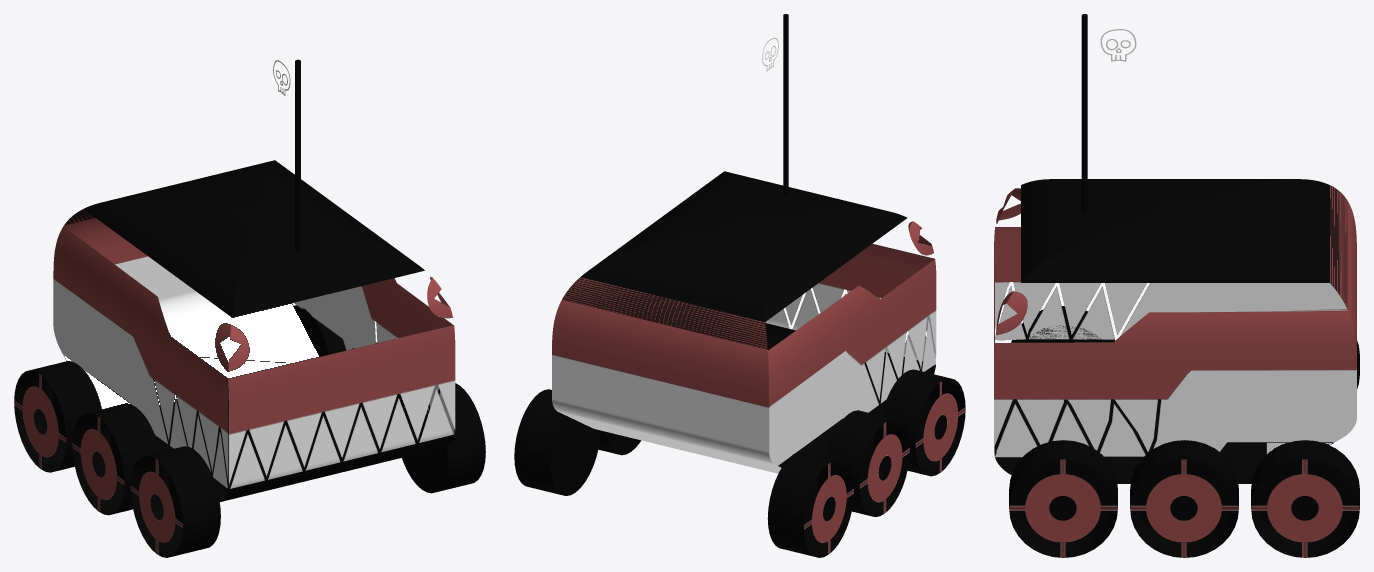
The model's file is starshipbot.fbx.
3 renders of one model, left to right at view 1: azimuth 30°, elevation 25°; view 2: azimuth 150°, elevation 25°; view 3: azimuth 270°, elevation 25°, orthographic. The views are drawn at different scales.
Visible parts, largest first — view 1: Cube_cart, left front, left back, left middle, right front, flag pole, right back; view 2: Cube_cart, left back, right back, left front, left middle, flag pole, right middle; view 3: Cube_cart, right front, right middle, right back, flag pole, left front.
Part boxes in pixels (<box>): Cube_cart: <box>53,160,455,501</box>; left front: <box>130,446,220,557</box>; left back: <box>14,361,101,472</box>; left middle: <box>72,403,159,515</box>; right front: <box>400,383,485,493</box>; flag pole: <box>295,59,300,250</box>; right back: <box>294,305,346,356</box>; Cube_cart: <box>552,171,936,473</box>; left back: <box>767,451,853,557</box>; right back: <box>514,389,600,495</box>; left front: <box>881,369,965,476</box>; left middle: <box>826,410,909,516</box>; flag pole: <box>783,14,788,196</box>; right middle: <box>598,430,641,455</box>; Cube_cart: <box>994,179,1356,483</box>; right front: <box>1009,440,1117,557</box>; right middle: <box>1130,440,1238,557</box>; right back: <box>1251,440,1359,557</box>; flag pole: <box>1081,14,1087,212</box>; left front: <box>1011,306,1115,342</box>.
Size of the model in its own units: 120 by 170 by 121.
Materials: 22 (12 with a texture image).
